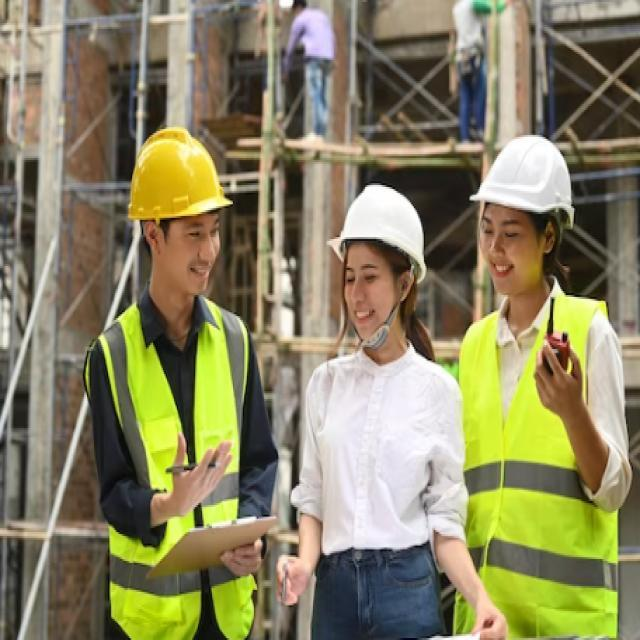hard_hat: (463, 131, 578, 305), (122, 119, 233, 299), (326, 178, 432, 361)
vest: (81, 295, 267, 640), (452, 291, 629, 640)
